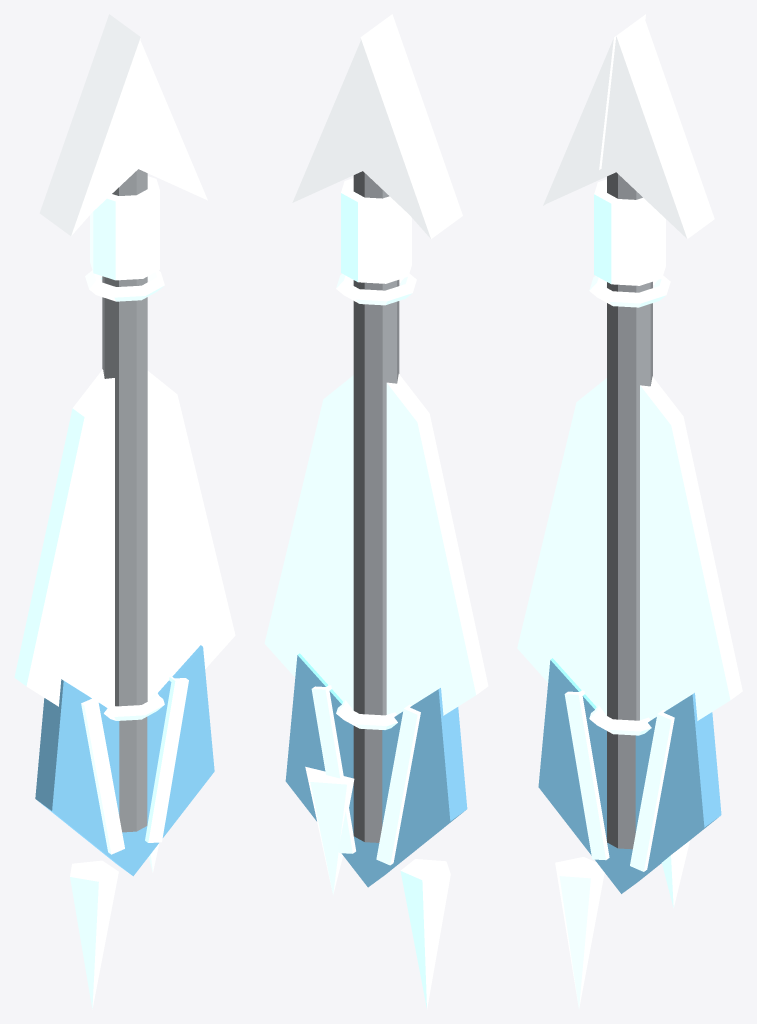
Rendered from quick_shot.glb.
3 renders of one model, left to right at view 1: azimuth 30°, elevation 25°; view 2: azimuth 150°, elevation 25°; view 3: azimuth 330°, elevation 25°, orthographic. The views are drawn at different scales.
Visible parts, largest first — view 1: WindVane_-1, Shaft.001, WindVane_1, ForgedArrowhead.001, Fletching_-1.001, HeadEdgeLeft.001, Fletching_1.001, HeadCollar.001, QuickWake_1, FletchingRib_1.001, FletchingRib_-1.001, Binding_1.001 (+1 smaller); view 2: WindVane_-1, Shaft.001, WindVane_1, ForgedArrowhead.001, Fletching_-1.001, HeadEdgeLeft.001, HeadCollar.001, Fletching_1.001, QuickWake_1, QuickWake_0, FletchingRib_-1.001, FletchingRib_1.001 (+2 smaller); view 3: WindVane_1, Shaft.001, WindVane_-1, ForgedArrowhead.001, Fletching_1.001, Fletching_-1.001, HeadCollar.001, QuickWake_1, HeadEdgeLeft.001, FletchingRib_-1.001, FletchingRib_1.001, Binding_1.001 (+2 smaller).
Boxes of the visible parts, x1,y1,x2,y2 form: WindVane_-1: (14,369,114,706); Shaft.001: (102,169,147,832); WindVane_1: (147,371,235,701); ForgedArrowhead.001: (42,16,207,234); Fletching_-1.001: (35,679,133,875); HeadEdgeLeft.001: (39,14,140,235); Fletching_1.001: (133,645,214,875); HeadCollar.001: (90,176,159,280); QuickWake_1: (70,860,118,1009); FletchingRib_1.001: (145,676,188,842); FletchingRib_-1.001: (81,696,124,854); Binding_1.001: (85,270,164,301); WindVane_-1: (386,374,488,715); Shaft.001: (353,171,399,842); WindVane_1: (264,375,353,710); ForgedArrowhead.001: (292,17,460,237); Fletching_-1.001: (368,688,467,887); HeadEdgeLeft.001: (360,14,462,238); HeadCollar.001: (341,178,411,283); Fletching_1.001: (285,653,367,886); QuickWake_1: (400,859,450,1009); QuickWake_0: (305,766,354,895); FletchingRib_-1.001: (376,704,420,865); FletchingRib_1.001: (311,685,355,853); WindVane_1: (640,376,742,720); Shaft.001: (607,172,652,849); WindVane_-1: (517,378,606,715); ForgedArrowhead.001: (547,16,714,238); Fletching_1.001: (621,693,721,893); Fletching_-1.001: (538,658,621,893); HeadCollar.001: (594,179,665,285); QuickWake_1: (555,857,604,1008); HeadEdgeLeft.001: (543,14,645,205); FletchingRib_-1.001: (564,690,609,860); FletchingRib_1.001: (630,710,674,871); Binding_1.001: (589,275,670,307).
Bounding box in the file's own units: 0.36 × 1.59 × 0.1312.
